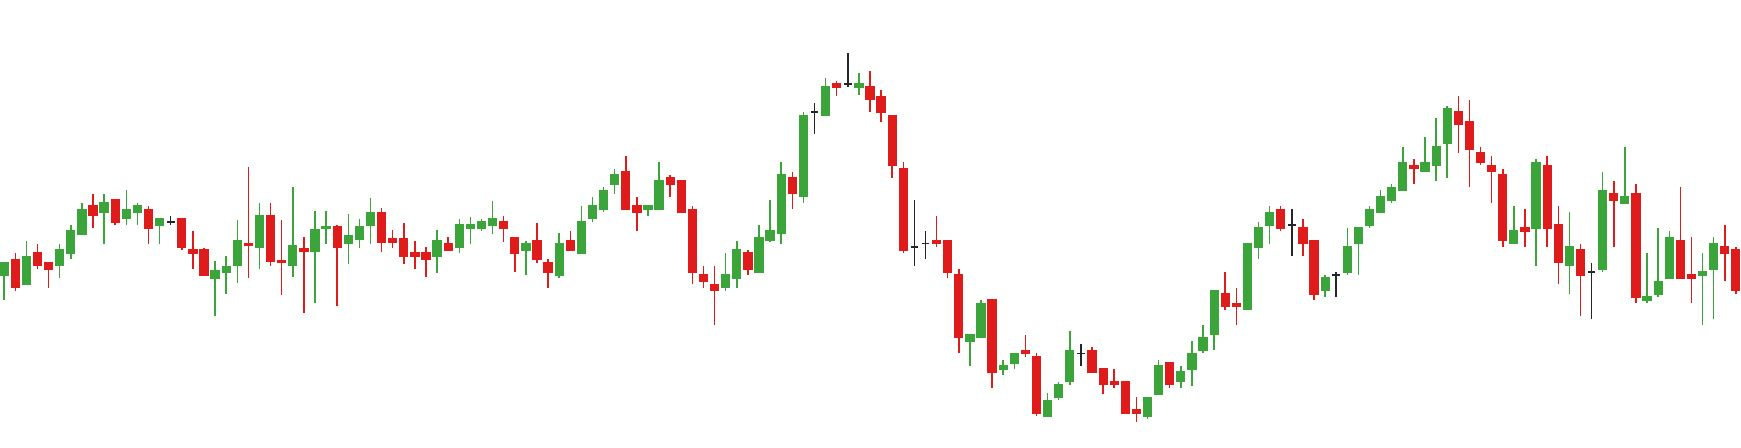buy: (542, 208, 729, 336), (1031, 359, 1153, 428)
sell: (1528, 143, 1631, 243)
